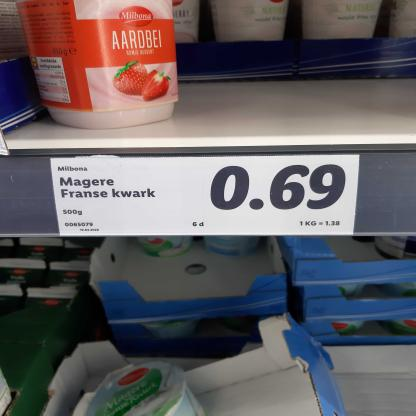prtg: (51, 155, 361, 237)
